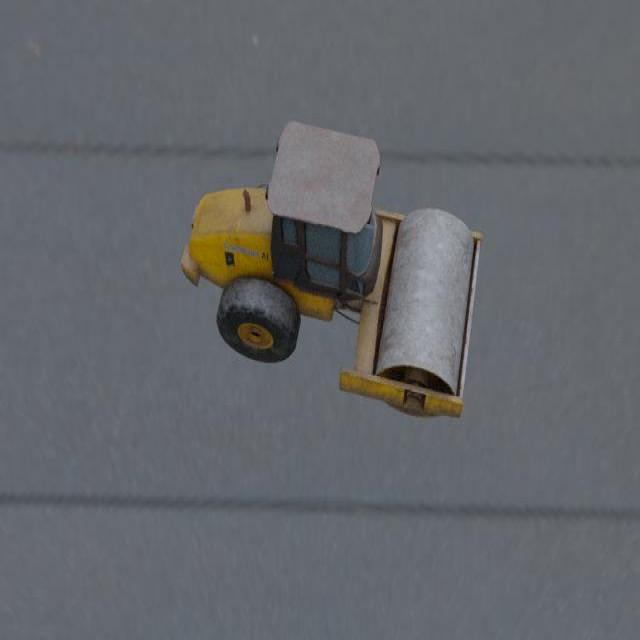Roller: (180, 120, 482, 419)
